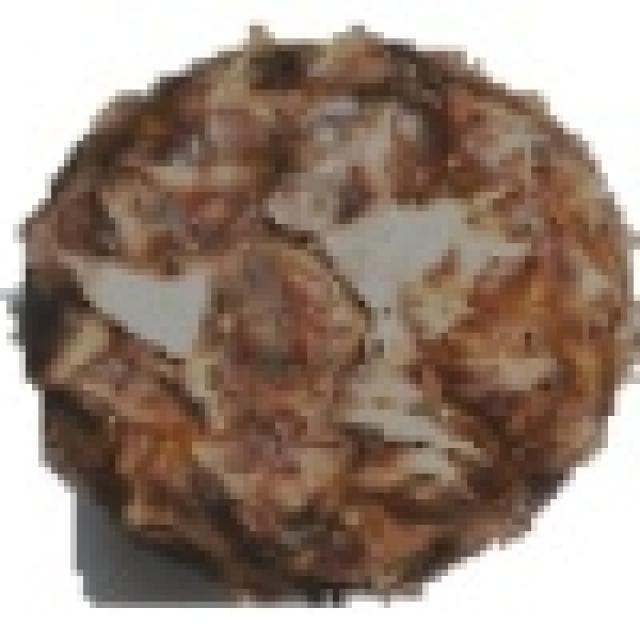pineapple: (32, 19, 634, 589)
